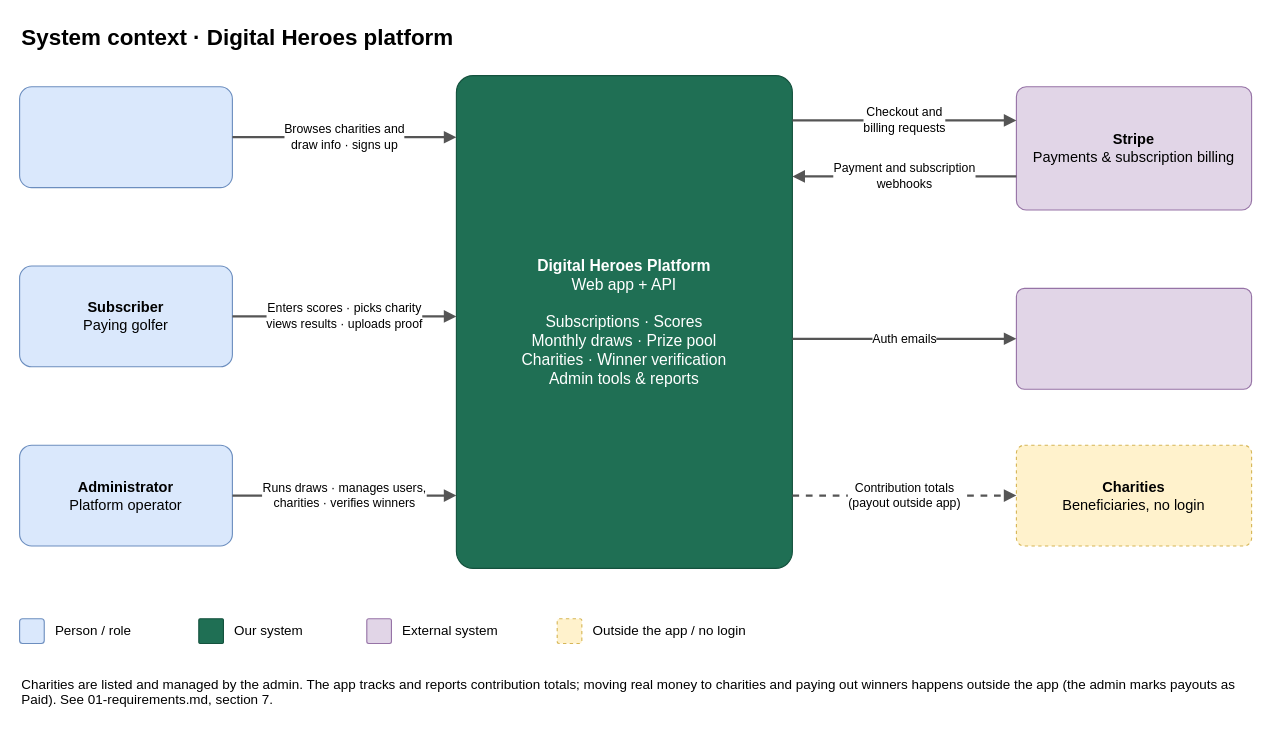
Some shapes in this 1271 by 732 pixel diagram are drawn without their labels. Each missing label, with the centre of its shape:
"Email service Auth emails (verify, reset)" belongs at (x=1133, y=338).
"Visitor Anonymous browser" belongs at (x=125, y=137).
